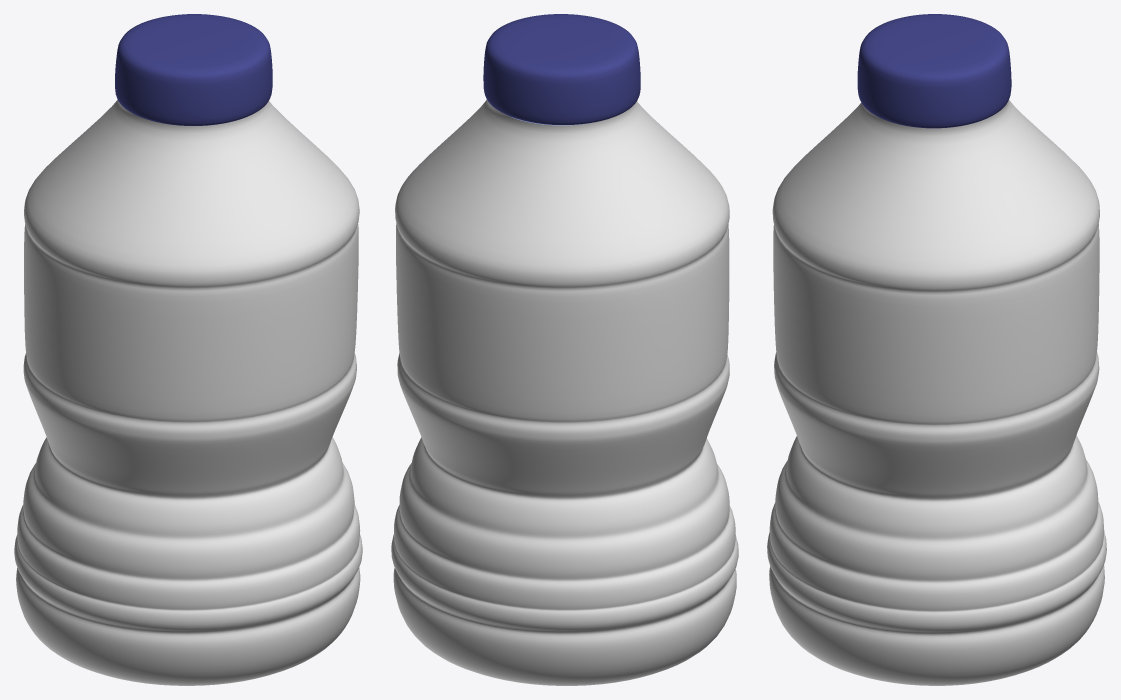
File: Botella.fbx
3 views of the same model, side by side, from view 1: azimuth 30°, elevation 25°; view 2: azimuth 150°, elevation 25°; view 3: azimuth 270°, elevation 25° (orthographic).
Parts seen in each view (by area): view 1: Botella, Tapón; view 2: Botella, Tapón; view 3: Botella, Tapón.
Part boxes in pixels (<box>): Botella: <box>14,99,362,685</box>; Tapón: <box>115,14,272,125</box>; Botella: <box>391,99,738,685</box>; Tapón: <box>483,14,640,124</box>; Botella: <box>767,100,1106,685</box>; Tapón: <box>857,14,1011,128</box>.
Bounding box in the file's own units: 6.71 × 12.59 × 6.52.
